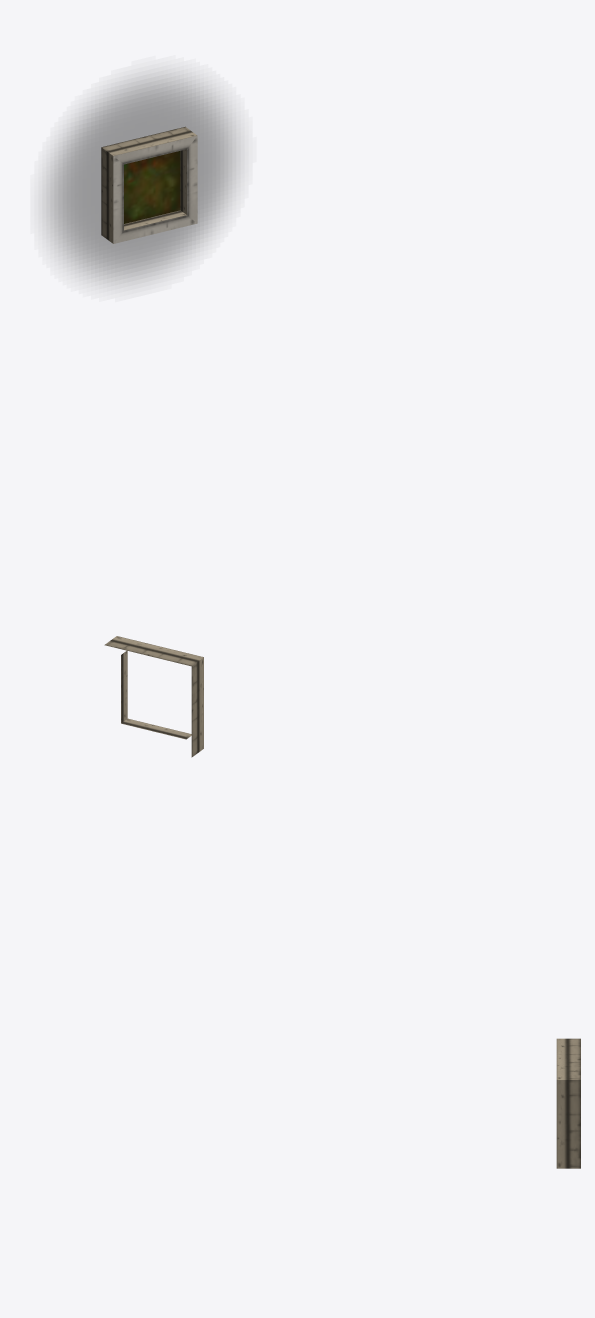
File: prop_tree_small_brickbox_ul.glb
The picture shows the model from 3 angles, top to bottom: view 1: azimuth 30°, elevation 25°; view 2: azimuth 150°, elevation 25°; view 3: azimuth 270°, elevation 25°; orthographic projection. The views are drawn at different scales.
Visible parts, largest first — view 1: shadow_small_brickbox_ul, box_drit_2; view 2: box_drit_2; view 3: box_drit_2.
Part boxes in pixels (bbox=[...]): shadow_small_brickbox_ul: bbox=[46, 74, 236, 283]; box_drit_2: bbox=[101, 127, 197, 243]; box_drit_2: bbox=[104, 636, 203, 757]; box_drit_2: bbox=[556, 1038, 580, 1168].
Bounding box in the file's own units: 13.93 × 12.32 × 23.16.
Materials: 5 (5 with a texture image).
